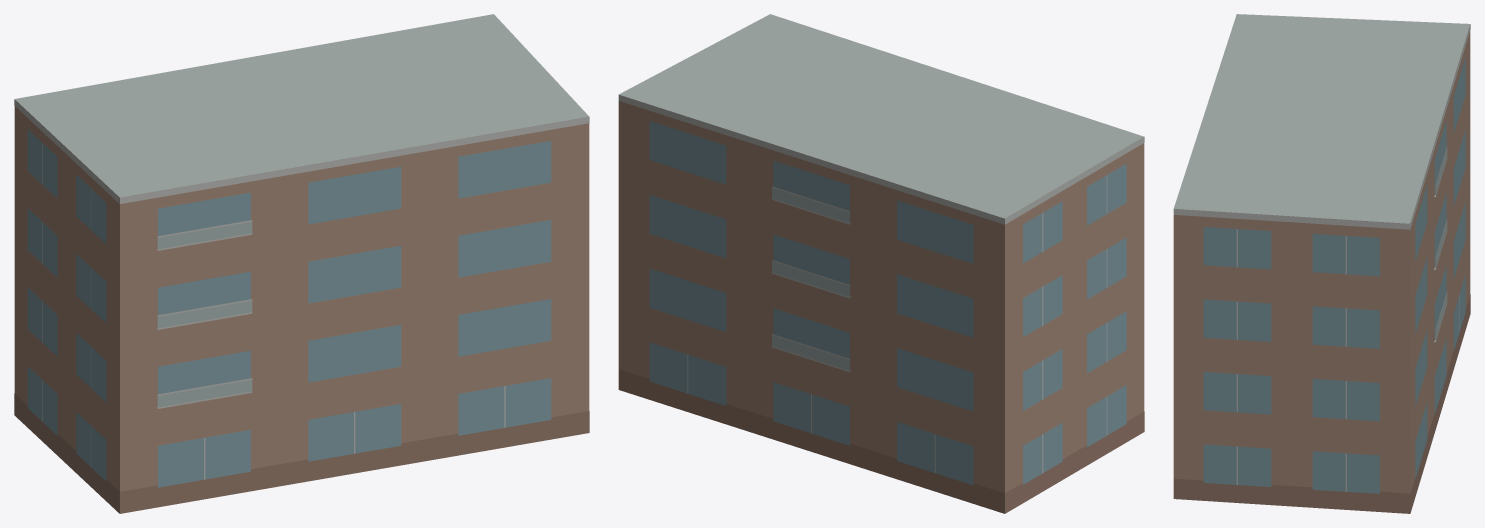
The model's file is survey-upis-32964889.glb.
The picture shows the model from 3 angles, left to right: view 1: azimuth 30°, elevation 25°; view 2: azimuth 150°, elevation 25°; view 3: azimuth 270°, elevation 25°; orthographic projection. The views are drawn at different scales.
Parts seen in each view (by area): view 1: survey-upis-32964889.tmp; view 2: survey-upis-32964889.tmp; view 3: survey-upis-32964889.tmp.
Boxes of the visible parts, x1,y1,x2,y2 form: survey-upis-32964889.tmp: (14, 14, 589, 513); survey-upis-32964889.tmp: (618, 14, 1144, 513); survey-upis-32964889.tmp: (1173, 14, 1470, 513).
Bounding box in the file's own units: 18.31 × 11.8 × 10.95.
